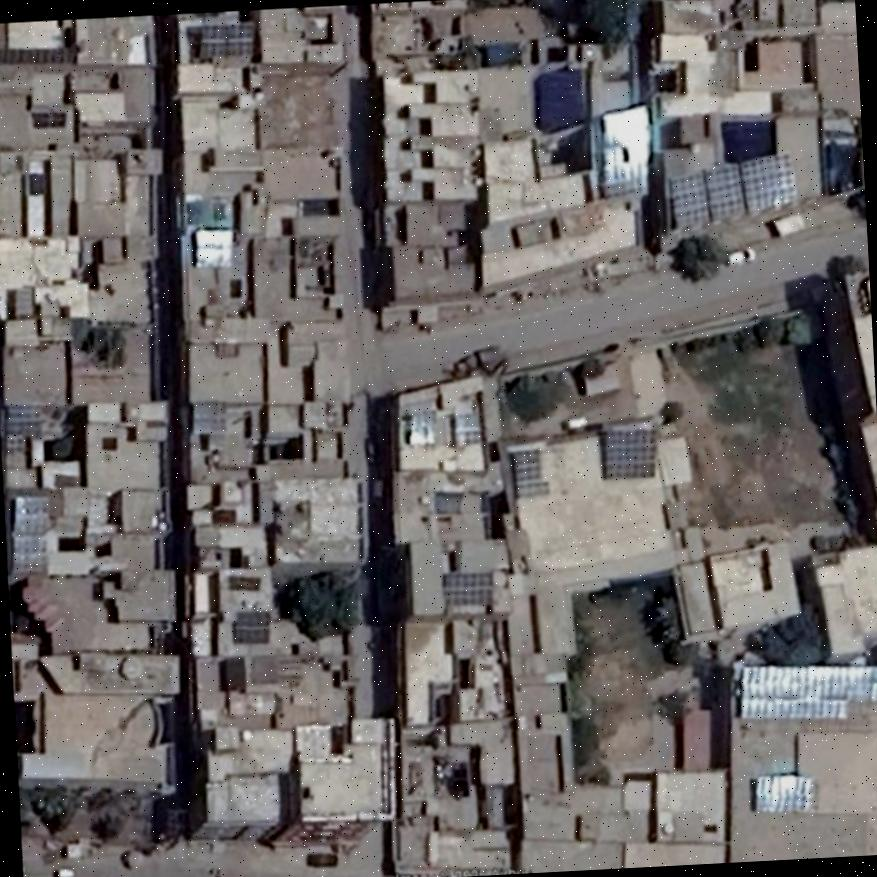Solarpanel: (670, 152, 799, 225), (740, 665, 877, 718), (603, 106, 646, 186), (12, 494, 46, 565), (605, 431, 655, 475), (755, 775, 813, 811), (511, 445, 548, 493), (200, 23, 256, 54), (6, 405, 41, 450), (443, 574, 491, 604), (196, 230, 231, 266), (0, 48, 76, 63), (237, 611, 268, 641)
